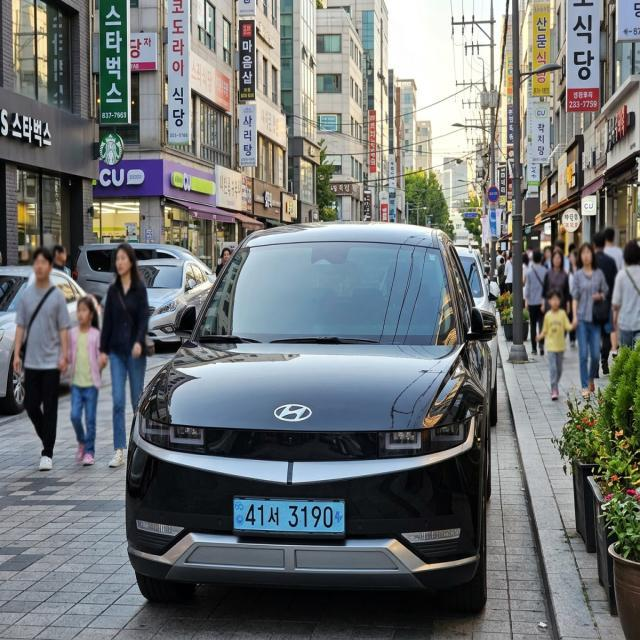car: (231, 493, 351, 546)
carev: (333, 496, 346, 538), (232, 497, 245, 534)
